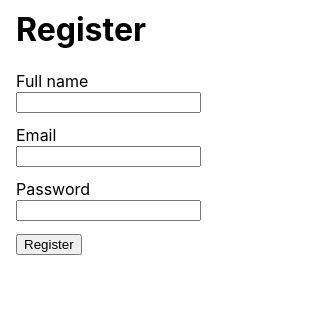
Test: Register › rejects an invalid email and a short password
In the field labelled "Full name": (108, 102) [16,92,201,113], type "Alex Student"
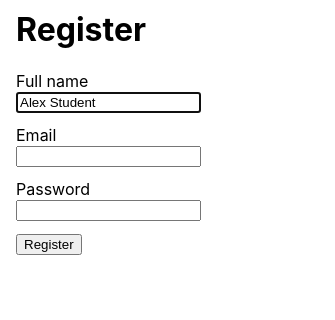
In the field labelled "Email": (108, 156) [16,146,201,167], type "not-an-email"
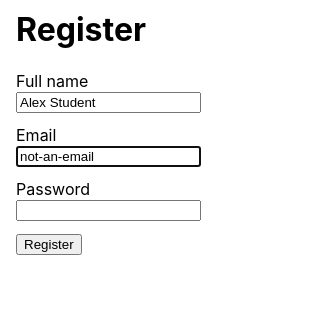
In the password field labelled "Password": (108, 210) [16,200,201,221], type "short"
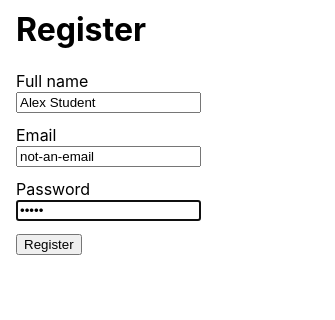
Click the button "Register": (49, 244) [16,234,82,255]
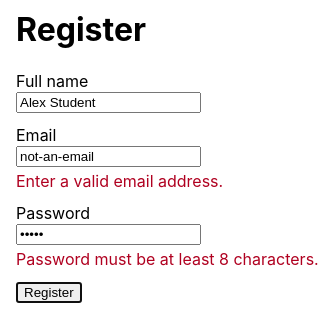
Result: the text "Enter a valid email address." is shown at [16,171,223,191]
Result: the text "Password must be at least 8 characters." is shown at [16,249,319,269]
